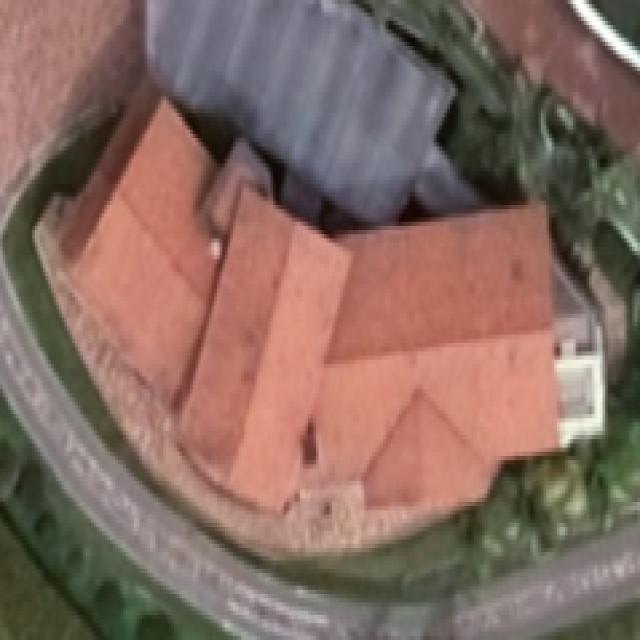Batiment: (303, 207, 557, 509), (180, 187, 351, 511), (59, 82, 221, 405)
